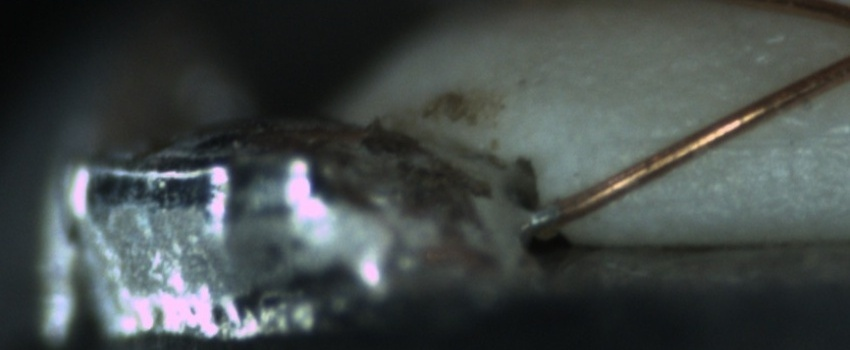DL: (626, 111, 849, 170)
TS: (527, 201, 560, 233)
